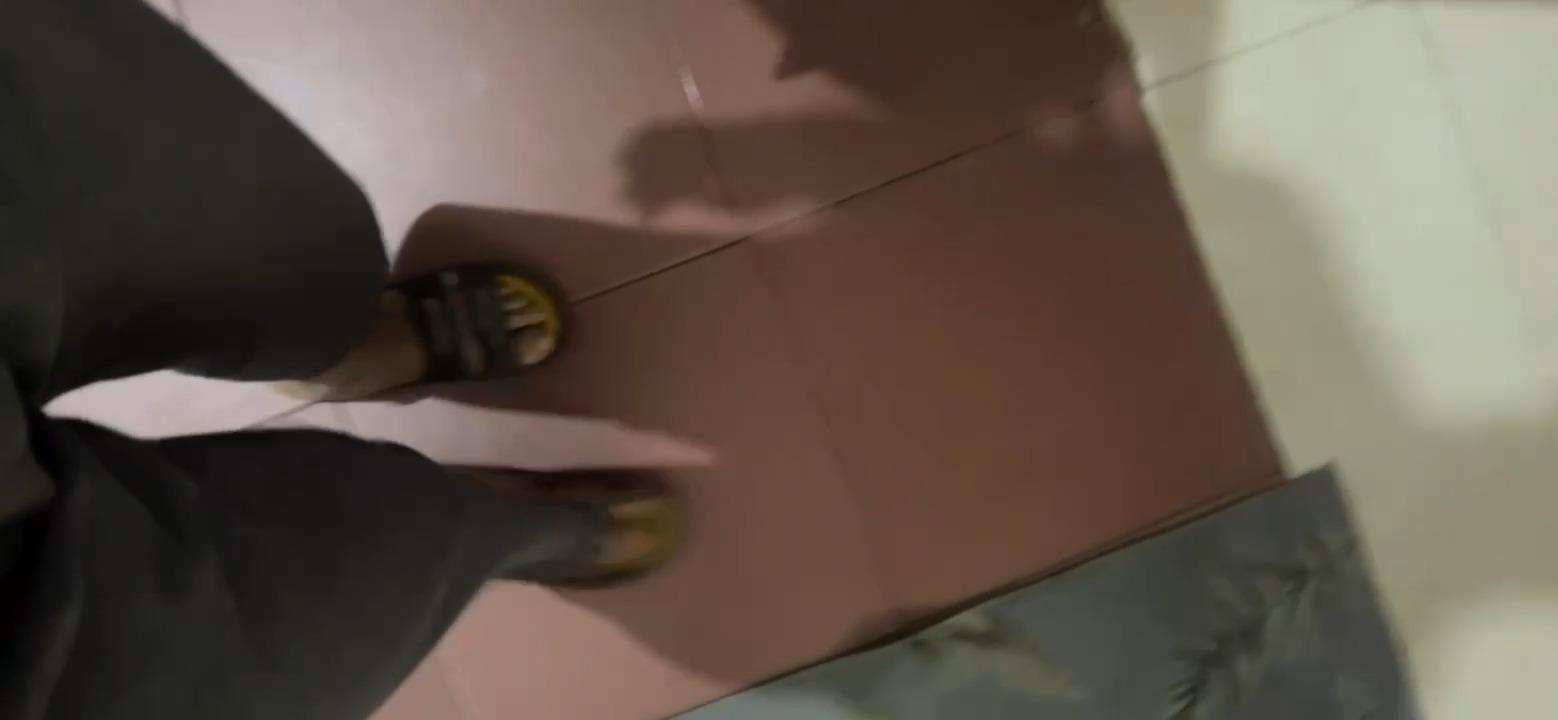no-boot: (325, 247, 557, 411)
